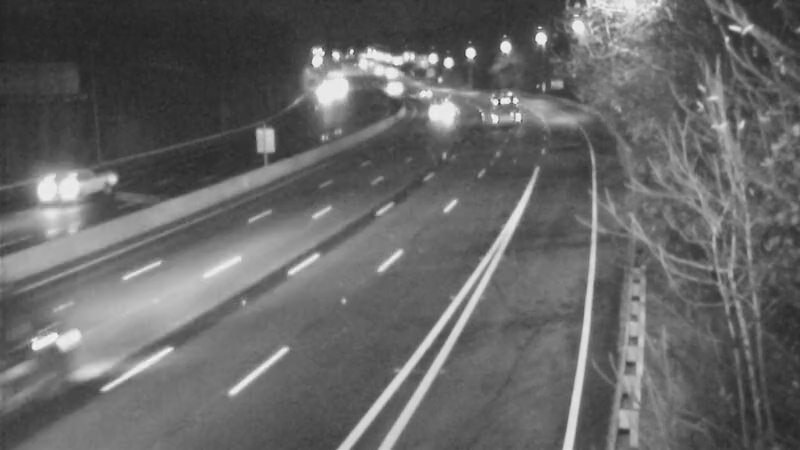vehicle: (23, 146, 103, 226), (365, 65, 415, 115), (398, 70, 448, 120), (475, 82, 525, 132), (415, 85, 465, 135)
